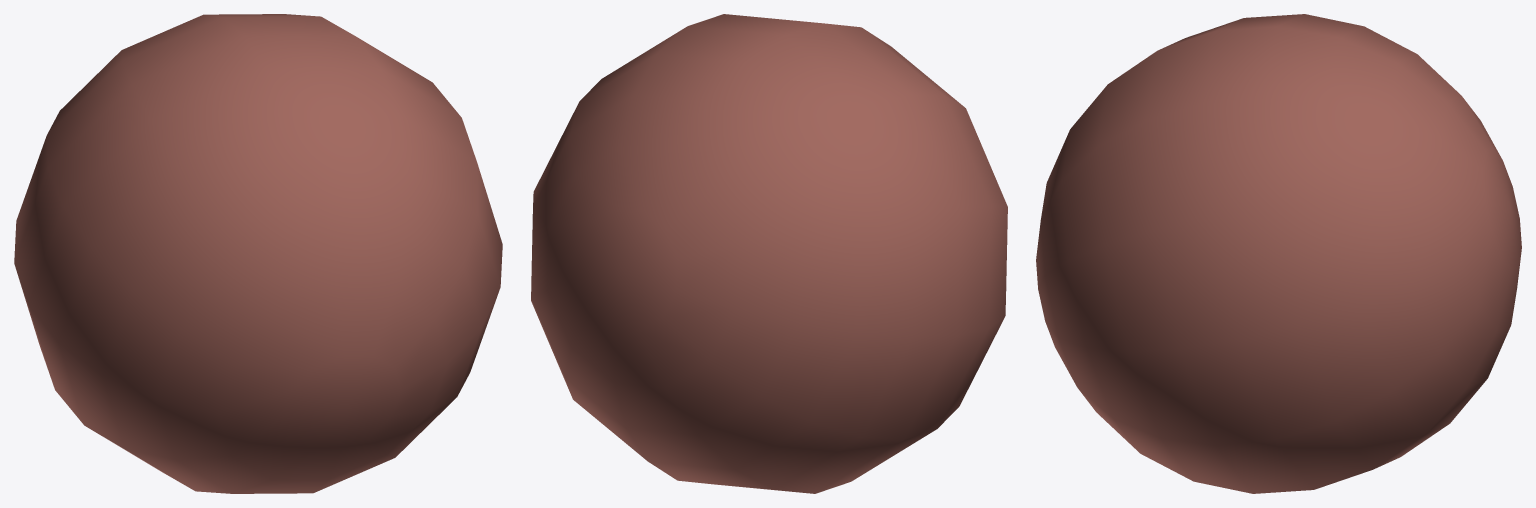
File: mixamo_humanoid_joint_rightHandIndex1.fbx
The picture shows the model from 3 angles, left to right: view 1: azimuth 30°, elevation 25°; view 2: azimuth 150°, elevation 25°; view 3: azimuth 270°, elevation 25°; orthographic projection.
Parts seen in each view (by area): view 1: joint_RightHandIndex1; view 2: joint_RightHandIndex1; view 3: joint_RightHandIndex1.
Boxes of the visible parts, x1,y1,x2,y2 form: joint_RightHandIndex1: [14, 14, 502, 493]; joint_RightHandIndex1: [531, 14, 1007, 493]; joint_RightHandIndex1: [1036, 14, 1521, 493].
Size of the model in its own units: 2.41 by 2.43 by 2.44.
